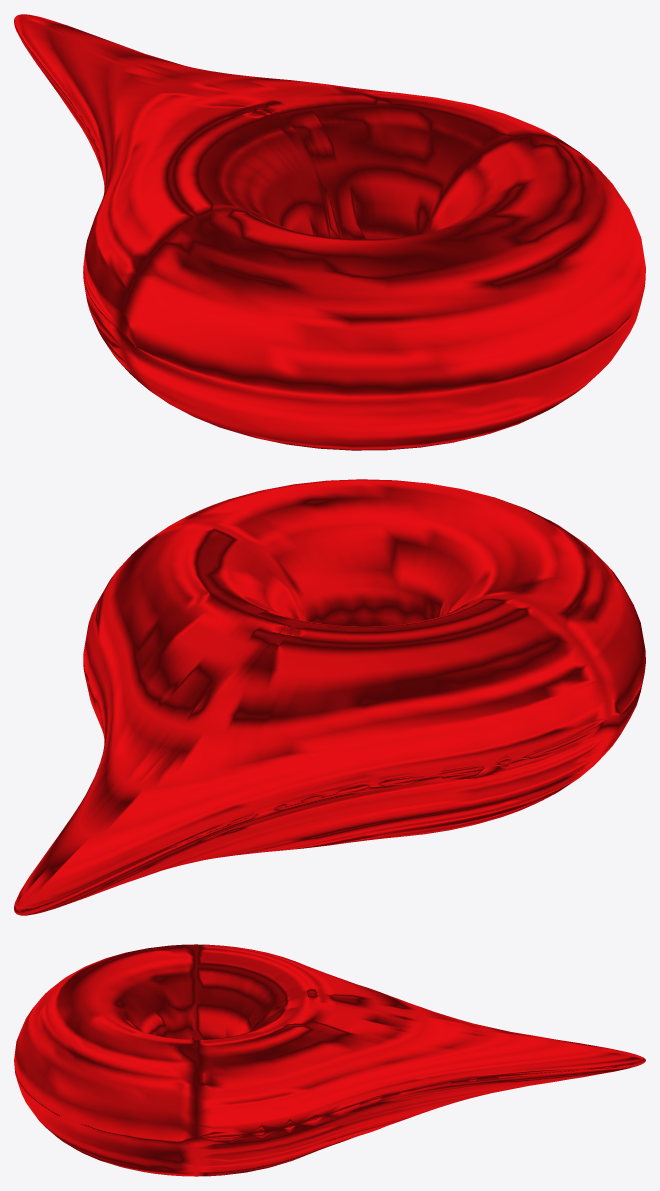
File: picket.glb
3 views of the same model, one above another, from view 1: azimuth 30°, elevation 25°; view 2: azimuth 150°, elevation 25°; view 3: azimuth 270°, elevation 25° (orthographic). The views are drawn at different scales.
Parts seen in each view (by area): view 1: Body2; view 2: Body2; view 3: Body2.
Part boxes in pixels (x1,y1,x2,y2): Body2: (14, 14, 645, 450); Body2: (14, 479, 645, 915); Body2: (14, 944, 645, 1176).
Size of the model in its own units: 0.21 by 0.08 by 0.3639.
